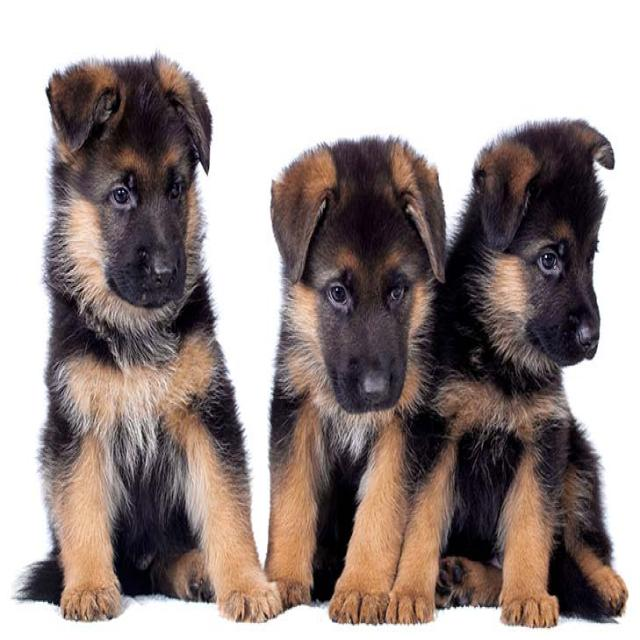GERMAN_SHEPHERD: (30, 34, 268, 640), (247, 123, 452, 640), (416, 103, 613, 640)
